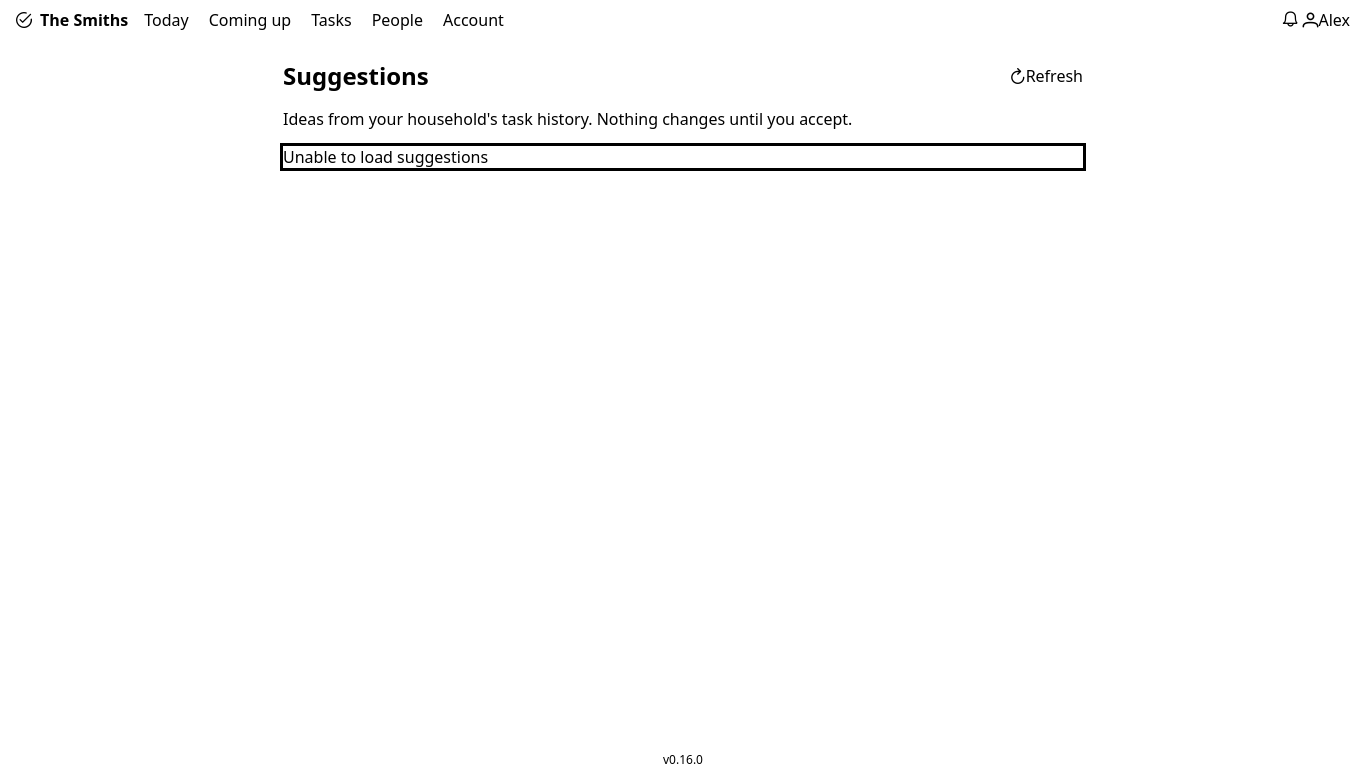
it: suggestions inbox › offers a retry after an inbox load fails
Expected: the message "Unable to load suggestions" is shown, [283,146,488,168]
Click the button "Refresh".
click(1046, 76)  # box [1010,64,1083,86]
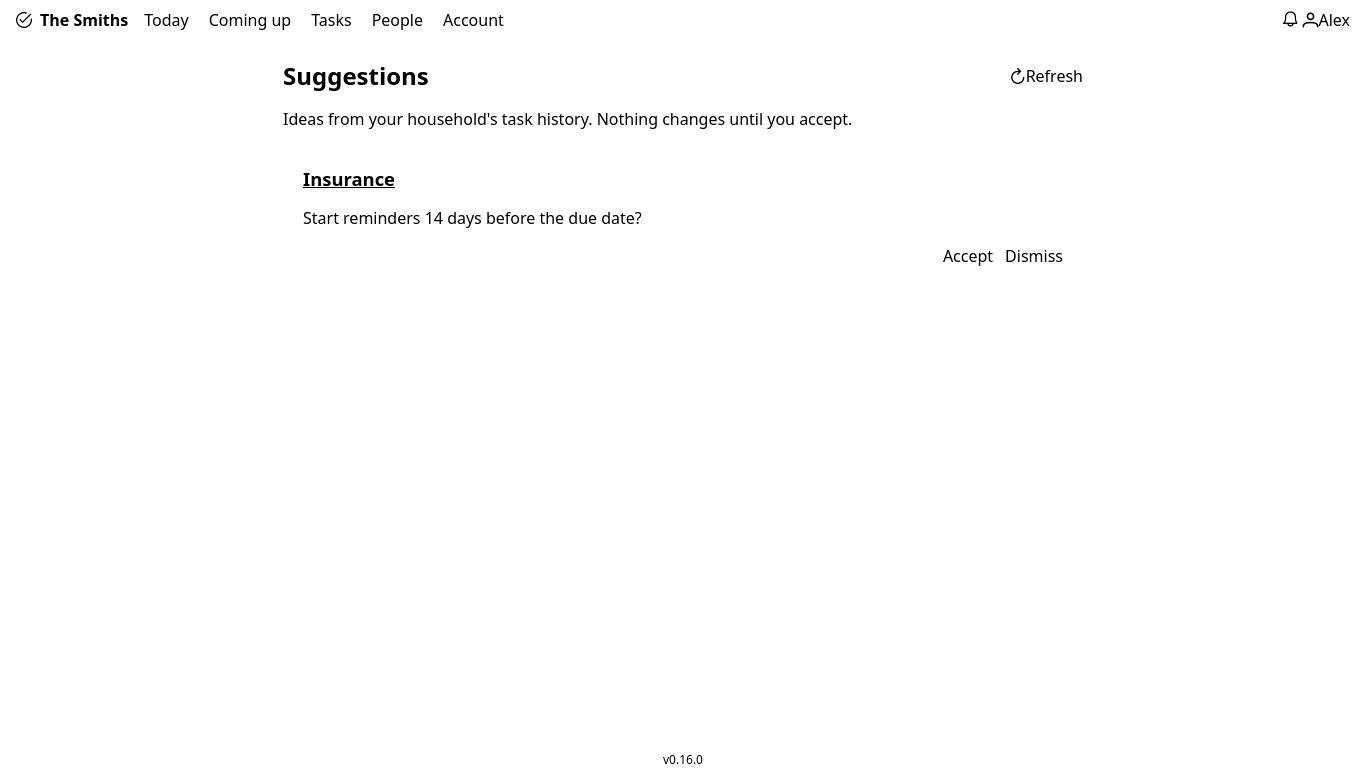
Expected: the text "Start reminders 14 days before the due date?" is shown, [303,207,642,229]
